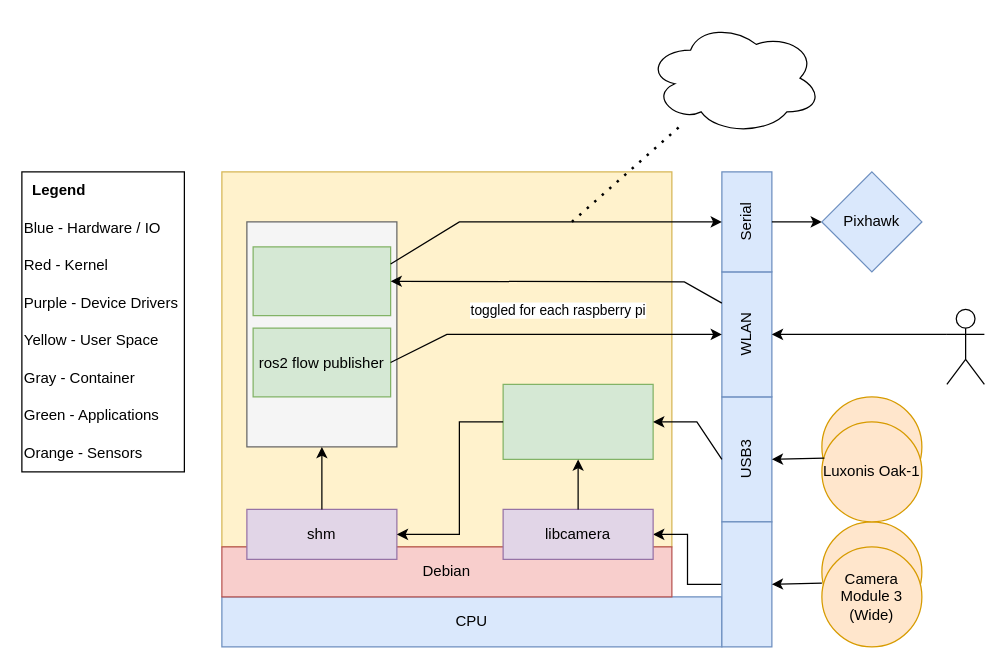
Image size: 1006x669. Some labels were removed from this diagram. The shapes that lost their labels are listed below. From the top down, each one's box as (x1, y1, x2, y2) in pixels, then its label:
(646, 21, 822, 134): [p,q,r,u,v,w]
(252, 246, 391, 316): ros2 flow aggregator
(946, 308, 984, 384): User
(502, 383, 653, 459): Optical Flow (multithreaded)
(721, 521, 772, 647): MIPI/CSI
